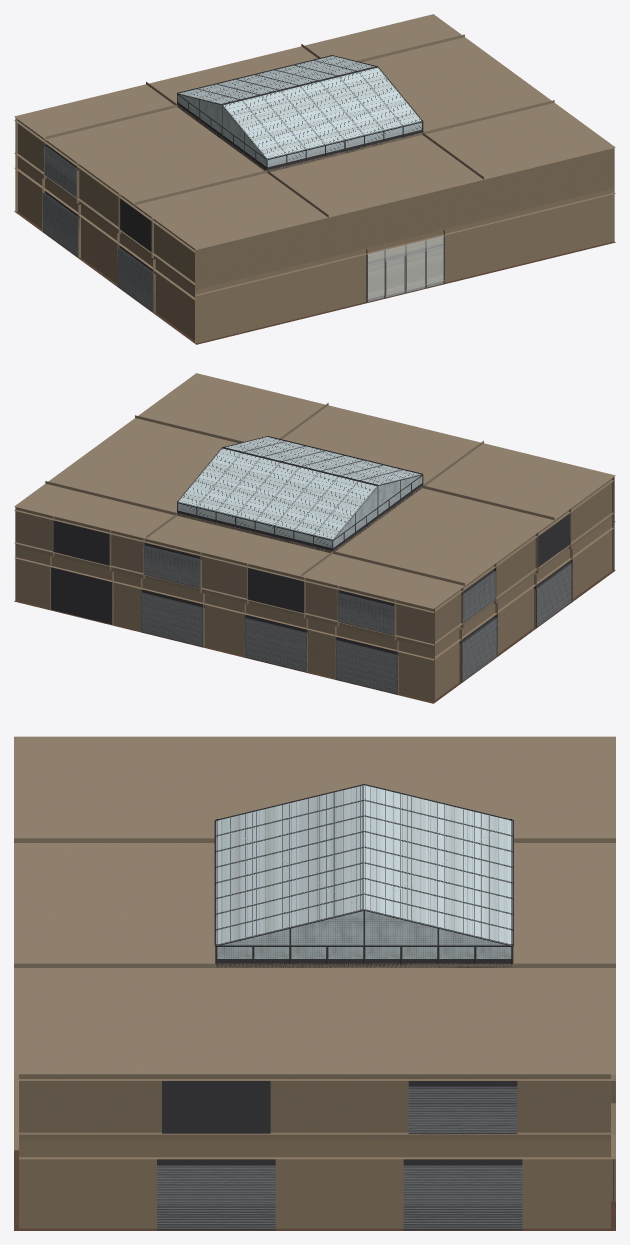
File: entrance.glb
3 renders of one model, top to bottom at view 1: azimuth 30°, elevation 25°; view 2: azimuth 150°, elevation 25°; view 3: azimuth 270°, elevation 25°, orthographic. The views are drawn at different scales.
Parts seen in each view (by area): view 1: Ceiling_Paint, Wall_Plaster, Wall_Upper, Skylight_Glass, Metal_Dark, Shutter_Metal, Glass_Whitewash, Floor_Border, Metal_Steel; view 2: Ceiling_Paint, Wall_Plaster, Skylight_Glass, Wall_Upper, Metal_Dark, Shutter_Metal, Floor_Border; view 3: Ceiling_Paint, Skylight_Glass, Wall_Plaster, Wall_Upper, Shutter_Metal, Metal_Dark, Floor_Border.
Boxes of the visible parts, box(x1,y1,x2,y2) form: Ceiling_Paint: box(14, 14, 615, 249); Wall_Plaster: box(14, 158, 615, 343); Wall_Upper: box(14, 117, 614, 289); Skylight_Glass: box(177, 56, 421, 167); Metal_Dark: box(42, 55, 423, 312); Shutter_Metal: box(43, 146, 152, 311); Glass_Whitewash: box(368, 236, 443, 298); Floor_Border: box(14, 211, 615, 344); Metal_Steel: box(366, 235, 444, 302); Ceiling_Paint: box(14, 373, 615, 608); Wall_Plaster: box(14, 517, 615, 702); Skylight_Glass: box(178, 437, 422, 547); Wall_Upper: box(14, 476, 614, 648); Metal_Dark: box(51, 436, 572, 694); Shutter_Metal: box(141, 546, 571, 693); Floor_Border: box(14, 570, 615, 703); Ceiling_Paint: box(14, 736, 615, 1074); Skylight_Glass: box(216, 785, 512, 958); Wall_Plaster: box(14, 1074, 615, 1228); Wall_Upper: box(19, 1074, 615, 1140); Shutter_Metal: box(157, 1087, 522, 1228); Metal_Dark: box(157, 784, 613, 1230); Floor_Border: box(14, 1150, 615, 1230).
Size of the model in its own units: 32.4 by 9.65 by 24.4.
28 materials, 20 textured.
